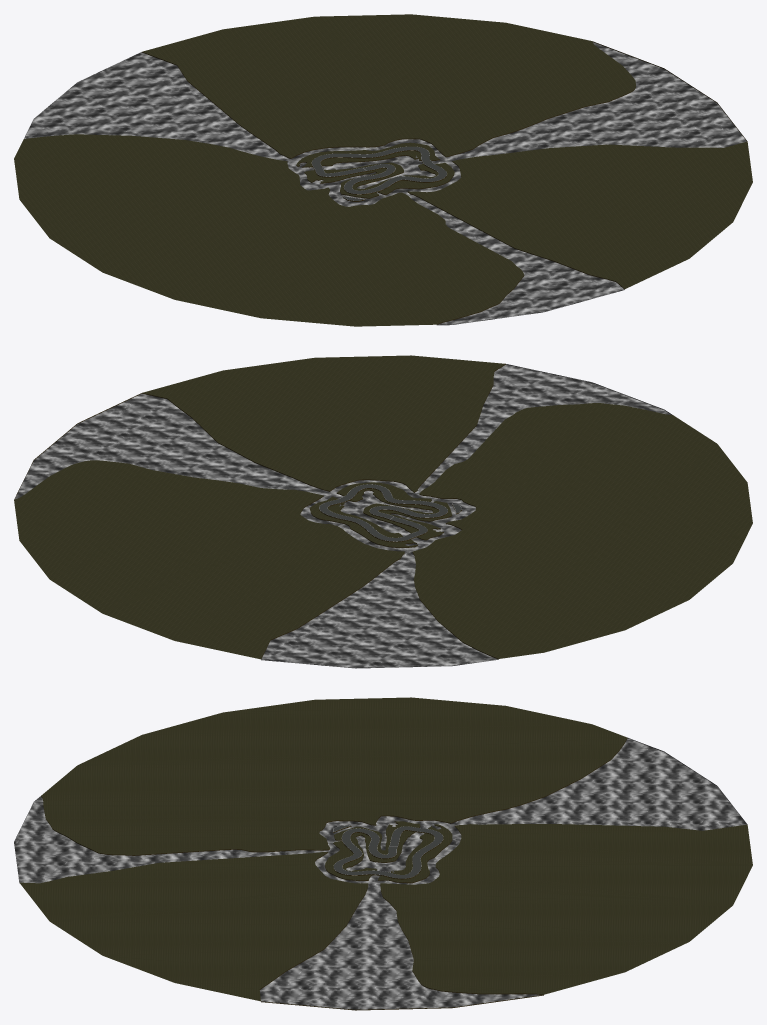
The picture shows the model from 3 angles, top to bottom: view 1: azimuth 30°, elevation 25°; view 2: azimuth 150°, elevation 25°; view 3: azimuth 270°, elevation 25°; orthographic projection.
Parts seen in each view (by area): view 1: new2_Main-sf.001, new2_Main-l.001, new2_Main-wall.001, new2_Main-r.001; view 2: new2_Main-sf.001, new2_Main-l.001, new2_Main-wall.001, new2_Main-r.001; view 3: new2_Main-sf.001, new2_Main-l.001, new2_Main-wall.001, new2_Main-r.001.
Boxes of the visible parts, x1=… form: new2_Main-sf.001: x1=14, y1=14, x2=752, y2=326; new2_Main-l.001: x1=24, y1=42, x2=746, y2=325; new2_Main-wall.001: x1=142, y1=41, x2=747, y2=324; new2_Main-r.001: x1=312, y1=146, x2=446, y2=200; new2_Main-sf.001: x1=14, y1=355, x2=752, y2=659; new2_Main-l.001: x1=14, y1=364, x2=672, y2=668; new2_Main-wall.001: x1=14, y1=364, x2=505, y2=658; new2_Main-r.001: x1=319, y1=484, x2=461, y2=541; new2_Main-sf.001: x1=19, y1=697, x2=752, y2=1001; new2_Main-l.001: x1=14, y1=738, x2=747, y2=1009; new2_Main-wall.001: x1=41, y1=738, x2=627, y2=1010; new2_Main-r.001: x1=333, y1=825, x2=443, y2=878.
Bounding box in the file's own units: 302245 × 1472 × 302245.
Materials: 6 (6 with a texture image).
